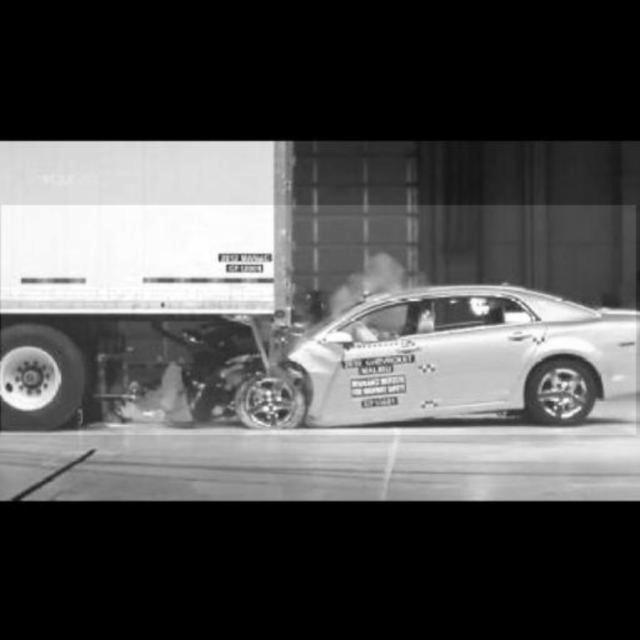accident: (1, 205, 635, 435)
